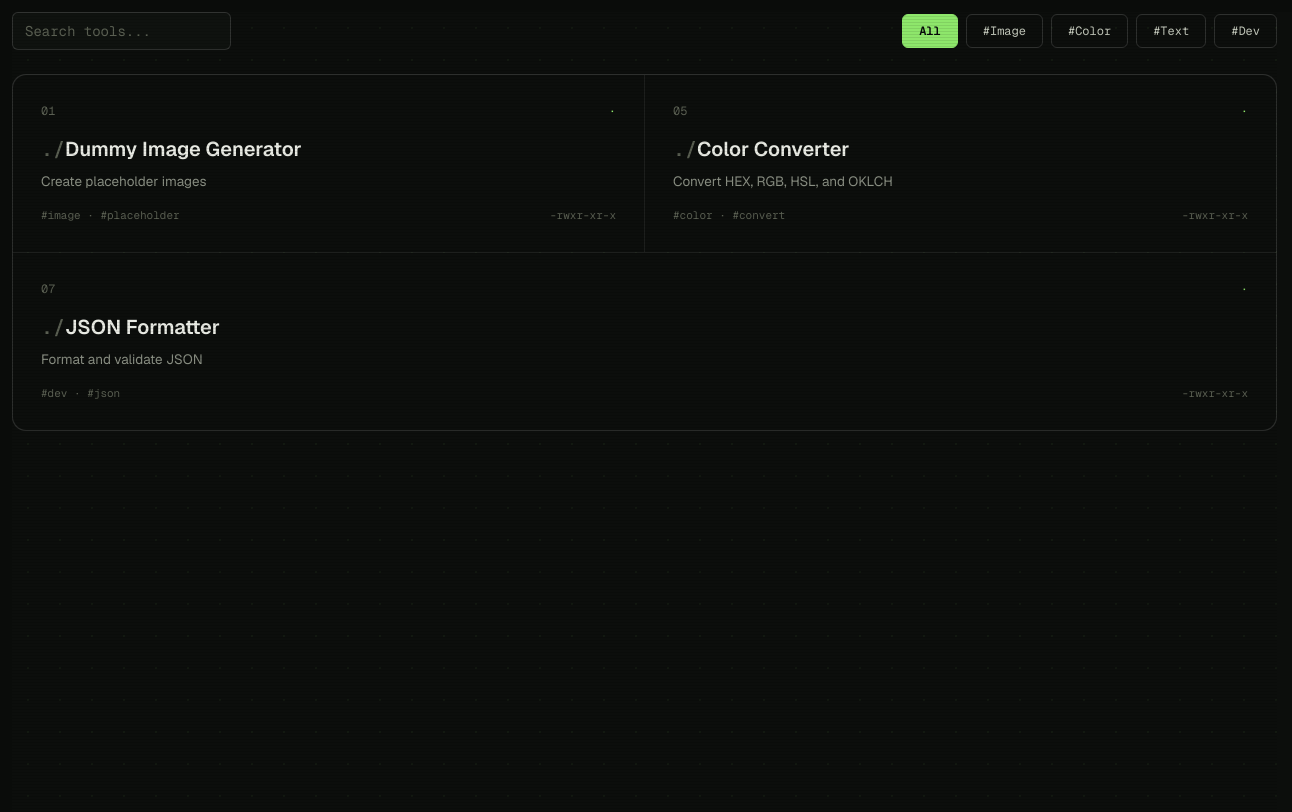
Test: ToolCatalogBrowser › filters by category
The image size is (1292, 812).
Click the button "#Image" at (1004, 31), box [966, 14, 1043, 48]
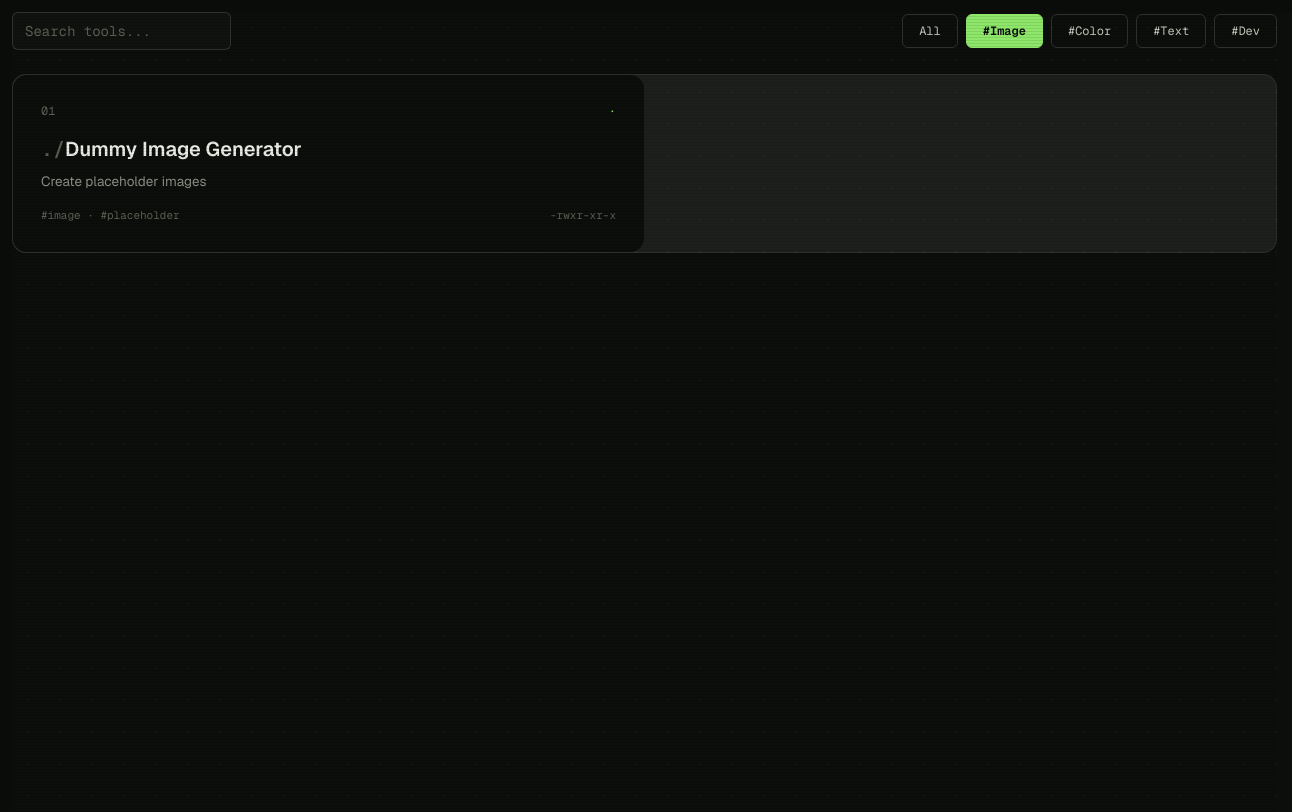
Expected: the heading "./Dummy Image Generator" is shown, [41, 136, 302, 162]
Expected: the link "Color Converter" is gone
